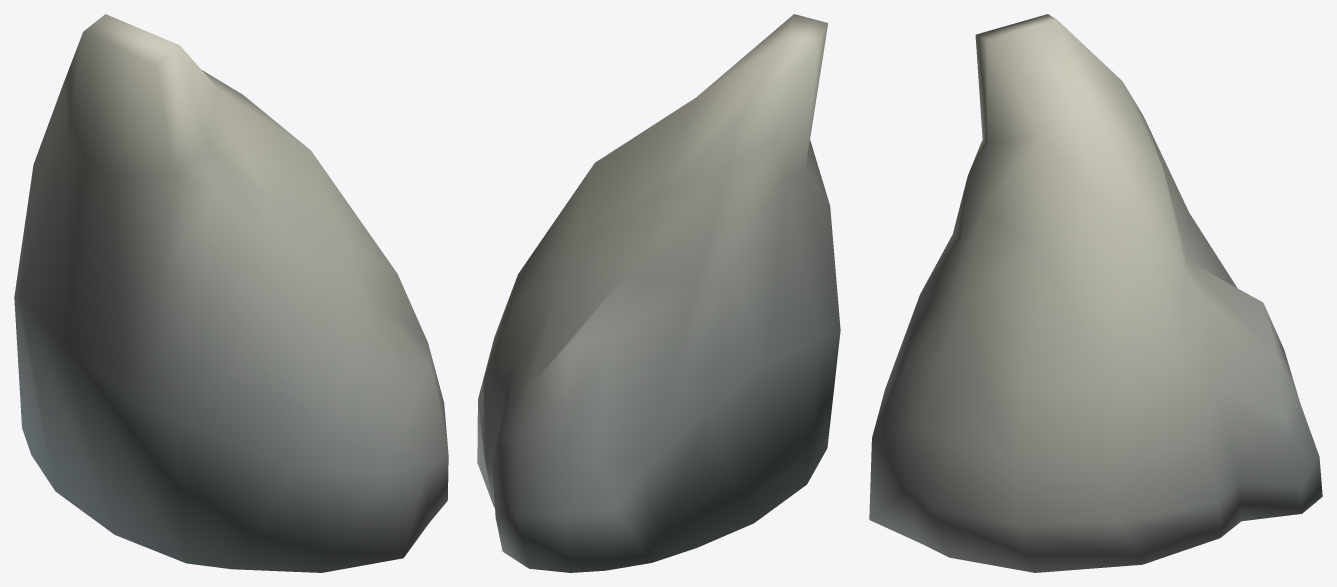
The model's file is Rock02.FBX.
3 views of the same model, side by side, from view 1: azimuth 30°, elevation 25°; view 2: azimuth 150°, elevation 25°; view 3: azimuth 270°, elevation 25° (orthographic). The views are drawn at different scales.
Visible parts, largest first — view 1: Rock02; view 2: Rock02; view 3: Rock02.
Boxes of the visible parts, box(x1,y1,x2,y2) form: Rock02: box(14, 14, 448, 572); Rock02: box(477, 14, 840, 572); Rock02: box(869, 14, 1322, 572).
Size of the model in its own units: 37.43 by 51.22 by 49.5.
